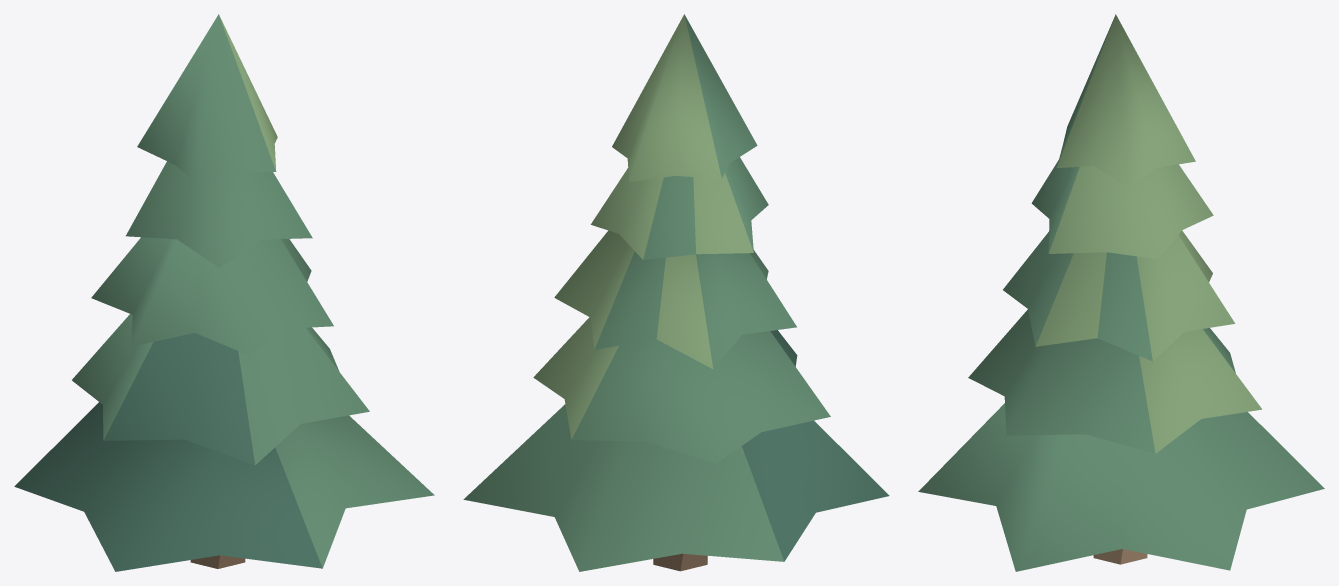
File: Pine_1.glb
The picture shows the model from 3 angles, left to right: view 1: azimuth 30°, elevation 25°; view 2: azimuth 150°, elevation 25°; view 3: azimuth 270°, elevation 25°; orthographic projection.
Visible parts, largest first — view 1: Pine_1; view 2: Pine_1; view 3: Pine_1.
Boxes of the visible parts, x1,y1,x2,y2 form: Pine_1: (14, 14, 434, 571); Pine_1: (463, 14, 889, 571); Pine_1: (918, 14, 1324, 571).
Bounding box in the file's own units: 0.6157 × 1 × 0.6868.
